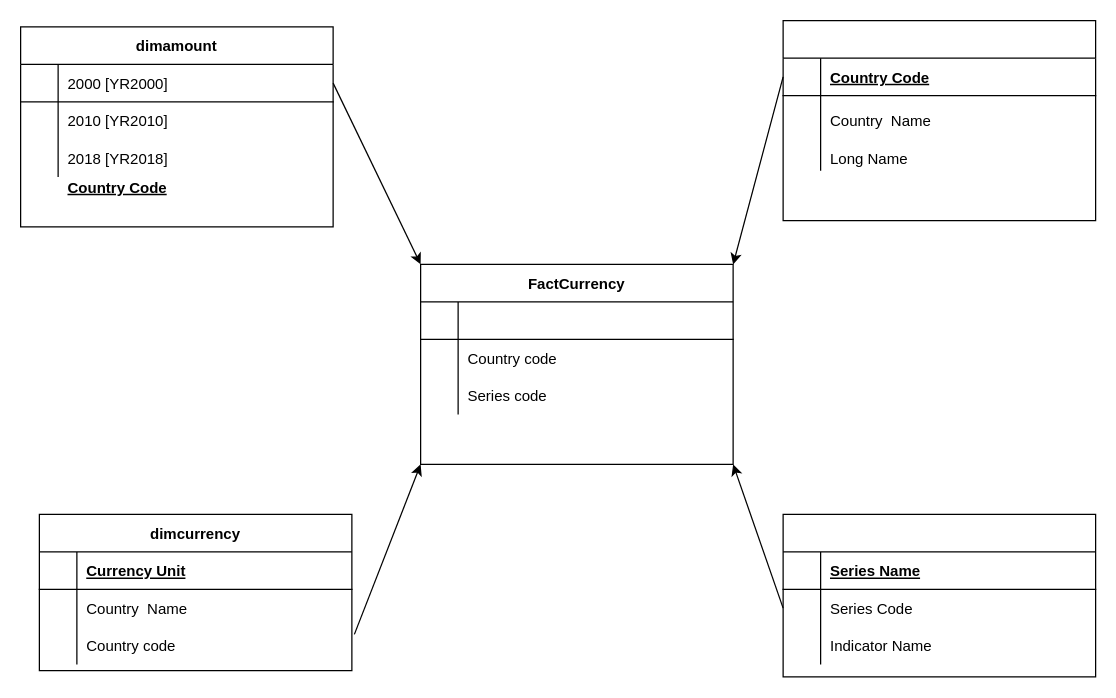
Some shapes in this 1116 by 698 pixel diagram are drawn without their labels. Here are the shapes that lost their labels. From the top down, the box of each, then its label:
(782, 19, 1096, 221): dimcountry
(782, 513, 1096, 677): dimseries
